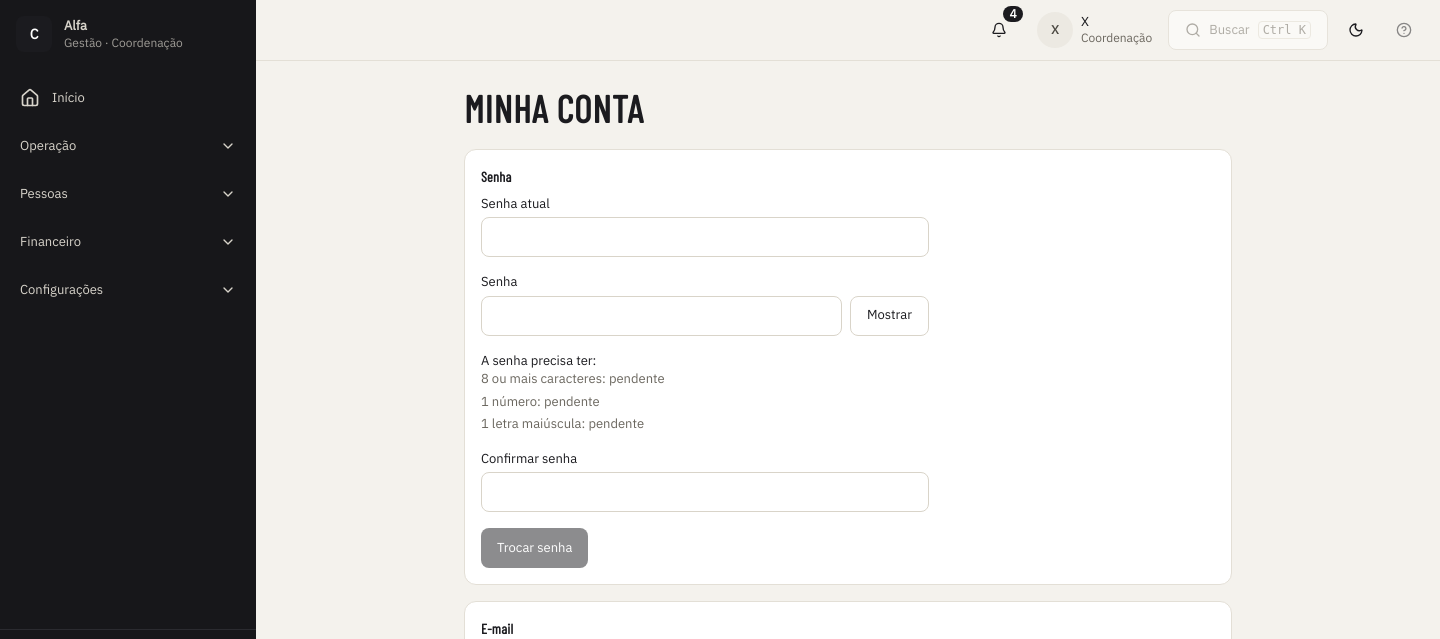
Test: AccountPage: senha (CA1, CA2) › senha conhecida vira erro no campo da senha nova; 429 vira aviso do formulário
This screenshot has width=1440, height=639.
Type "Atual12345" into the password field labelled "Senha atual". click: (705,237)
box: x1=481 y1=217 x2=929 y2=257
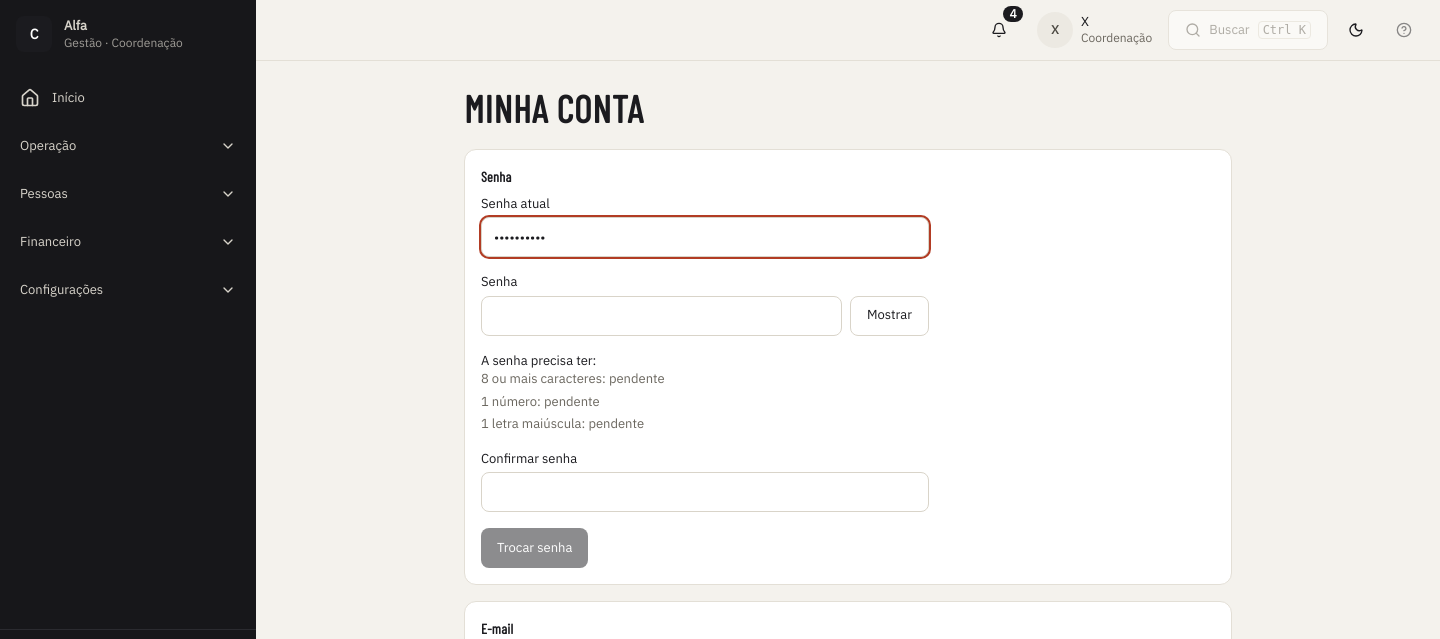
Type "Password1" into the password field labelled "Senha". click: (661,316)
box: x1=481 y1=296 x2=842 y2=336
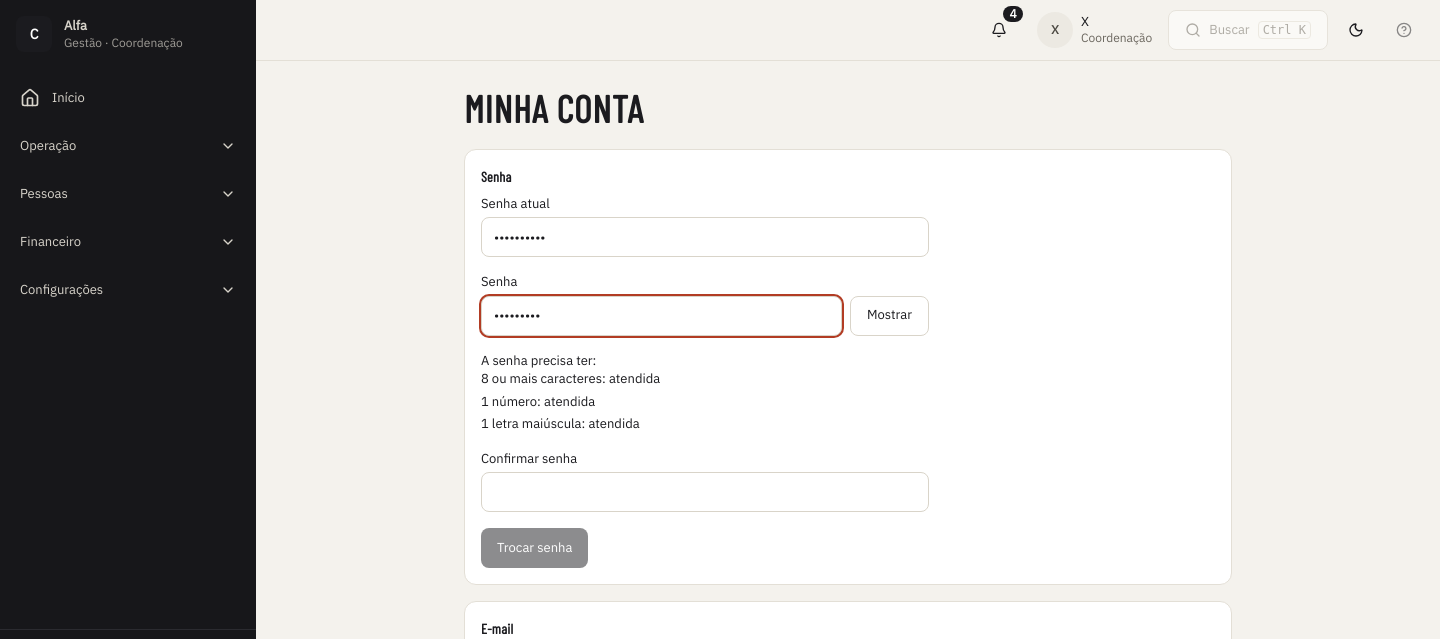
Type "Password1" into the password field labelled "Confirmar senha". click: (705,492)
box: x1=481 y1=472 x2=929 y2=512
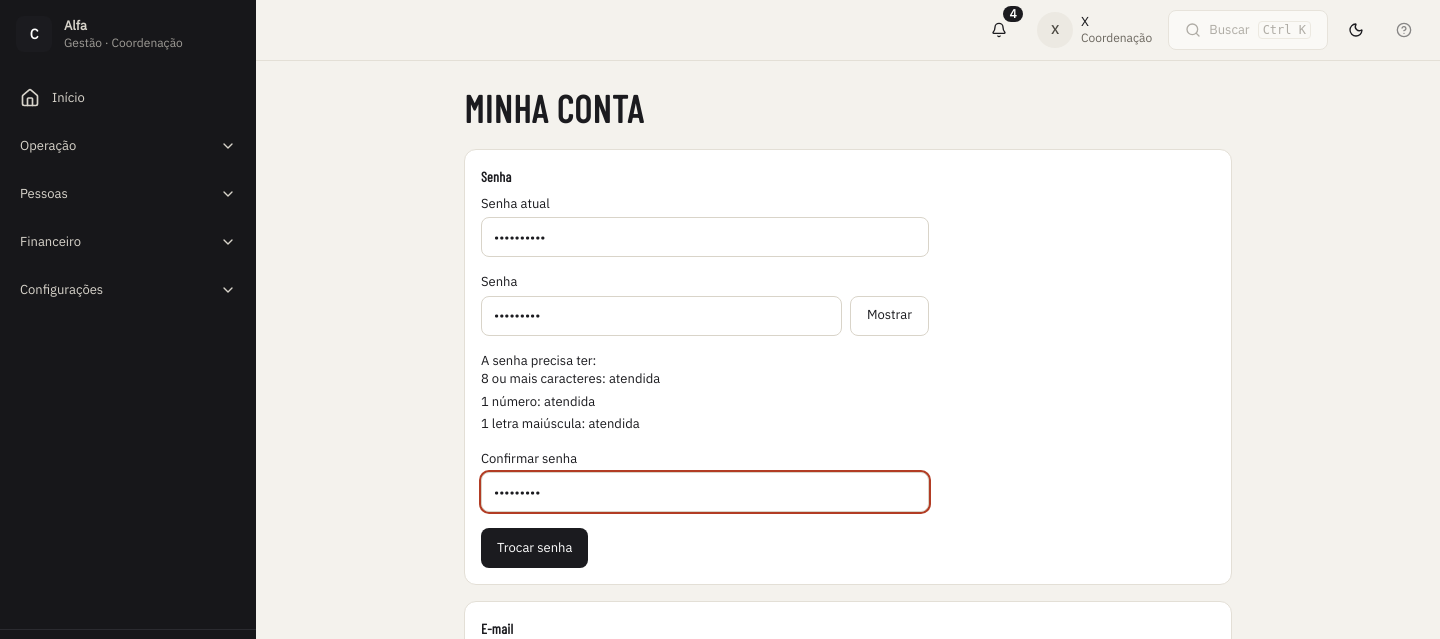
Click the button "Trocar senha". click: (535,548)
box: x1=481 y1=528 x2=588 y2=568
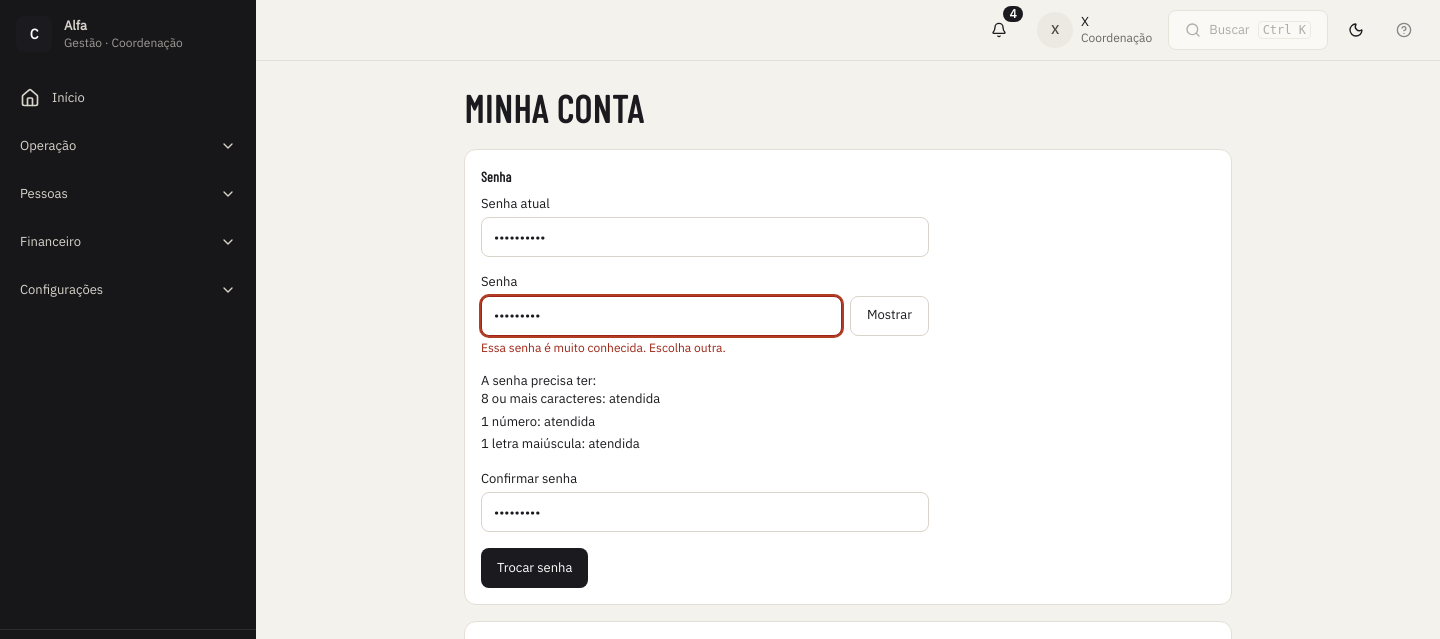
Now the text "Essa senha é muito conhecida. Escolha outra." is shown, box x1=481 y1=340 x2=726 y2=355
Type "limite" into the password field labelled "Senha atual". click: (705,237)
box: x1=481 y1=217 x2=929 y2=257
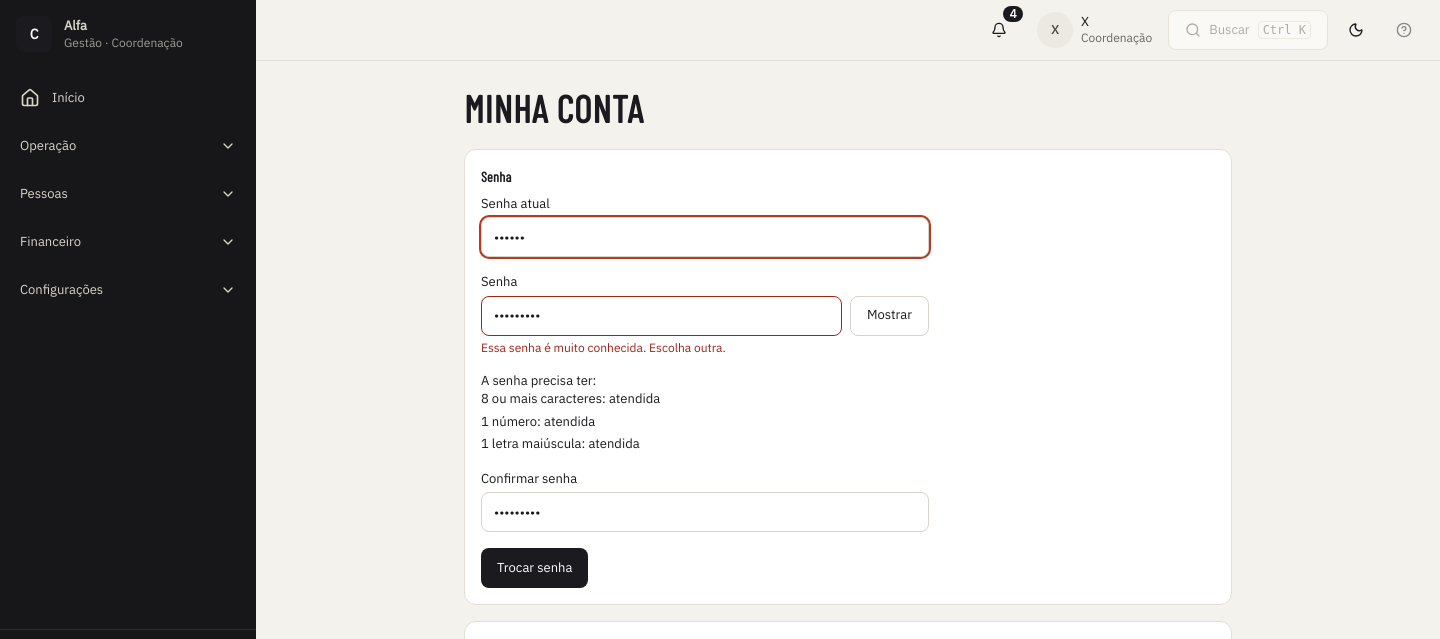
Click the button "Trocar senha". click: (535,568)
box: x1=481 y1=548 x2=588 y2=588
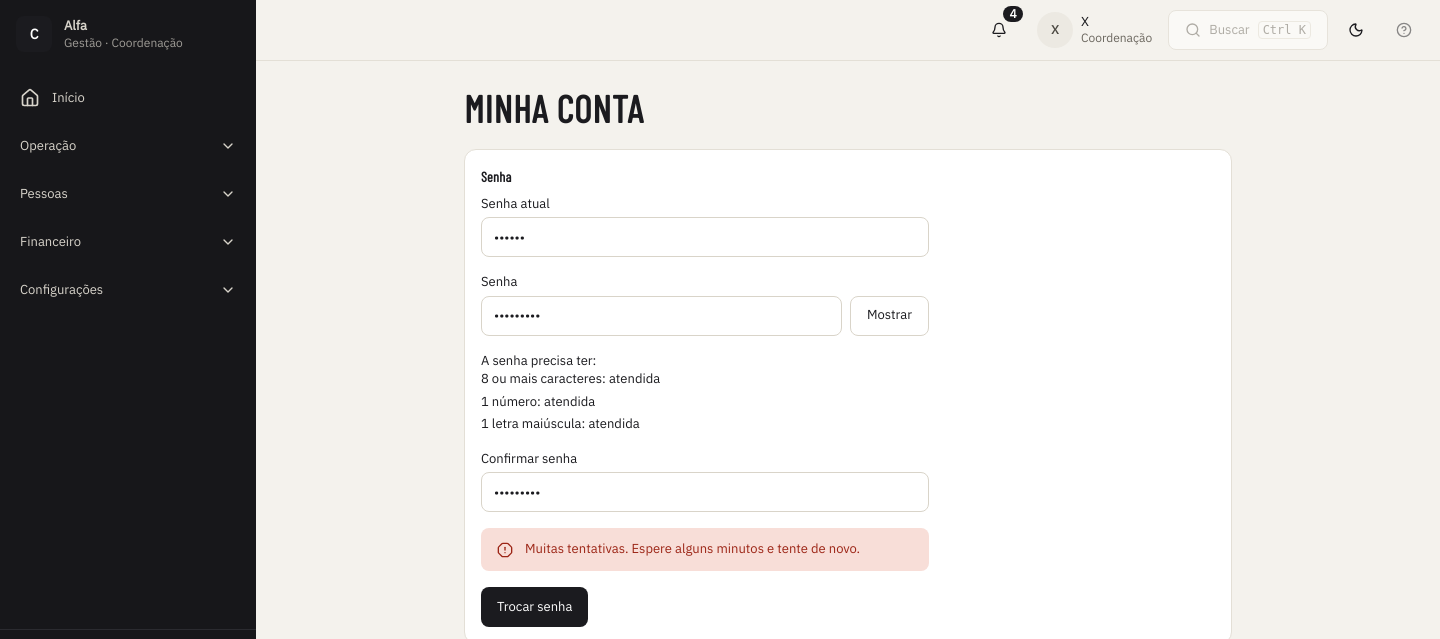
Now the text "Muitas tentativas. Espere alguns minutos e tente de novo." is shown, box x1=525 y1=540 x2=860 y2=559
